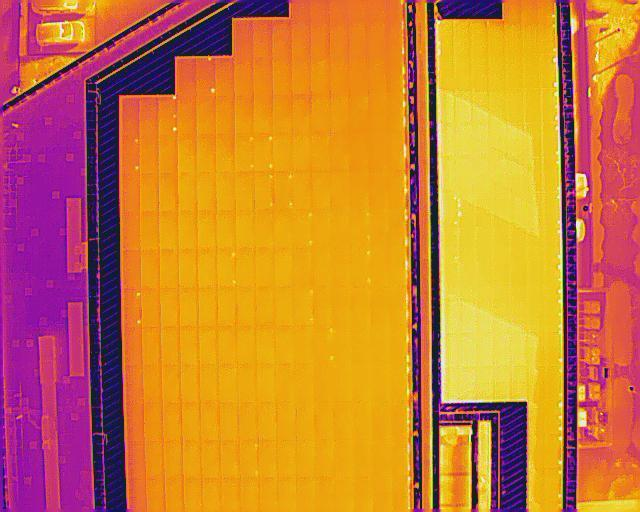Cell-Multi: (239, 439, 260, 480), (313, 325, 334, 364), (217, 249, 237, 289), (293, 211, 314, 249), (293, 287, 314, 325), (197, 57, 217, 96), (274, 171, 294, 210), (255, 171, 274, 211), (353, 249, 372, 289), (255, 134, 274, 173), (158, 97, 177, 136), (235, 134, 254, 172), (123, 290, 142, 328), (122, 135, 140, 174)
No-Anomaly: (314, 247, 335, 288), (201, 439, 222, 480), (333, 324, 354, 364), (349, 171, 369, 212), (293, 170, 313, 211), (163, 403, 183, 444), (348, 93, 369, 132), (235, 172, 256, 211), (144, 442, 165, 481), (293, 249, 314, 288), (315, 401, 336, 440), (365, 57, 387, 94), (177, 58, 197, 98), (273, 95, 293, 135), (158, 172, 178, 212), (179, 249, 199, 289), (277, 401, 297, 441), (219, 402, 239, 442), (238, 286, 258, 326), (182, 441, 202, 481), (234, 57, 255, 95), (349, 133, 370, 171), (257, 402, 278, 440), (365, 19, 386, 57), (346, 57, 368, 93), (273, 56, 293, 95), (217, 210, 237, 249), (236, 210, 256, 249), (177, 133, 197, 172), (372, 364, 392, 403), (215, 96, 235, 135), (178, 211, 198, 250), (219, 364, 239, 403), (162, 365, 182, 404), (235, 95, 255, 134), (256, 287, 276, 326), (278, 440, 298, 479), (236, 249, 256, 288), (143, 403, 163, 442), (316, 439, 336, 478), (259, 440, 279, 479), (335, 439, 355, 478), (218, 326, 238, 365), (311, 55, 331, 94), (160, 288, 180, 327), (313, 170, 332, 211), (197, 133, 216, 174), (275, 325, 294, 366), (314, 364, 335, 401), (314, 288, 335, 325), (312, 94, 331, 134), (139, 135, 159, 173), (254, 95, 273, 135), (276, 364, 296, 402), (330, 172, 350, 210), (158, 135, 178, 173), (196, 96, 216, 134), (334, 365, 354, 403), (197, 173, 217, 211), (257, 326, 276, 366), (335, 402, 355, 440), (352, 324, 371, 364), (160, 327, 180, 365), (220, 440, 240, 478), (296, 401, 315, 441), (239, 402, 258, 442), (354, 440, 374, 478), (200, 403, 220, 441), (179, 289, 199, 327), (141, 249, 160, 289), (333, 248, 352, 288), (254, 56, 273, 95), (274, 210, 293, 249), (255, 210, 274, 249), (178, 172, 197, 211), (292, 56, 311, 95), (200, 364, 219, 403), (294, 325, 313, 364), (238, 326, 257, 365), (374, 440, 393, 479), (181, 402, 200, 441), (160, 250, 179, 289), (199, 326, 218, 365), (218, 288, 237, 327), (257, 365, 277, 402), (143, 366, 163, 403), (329, 56, 349, 93), (273, 20, 293, 57), (371, 323, 389, 364), (141, 211, 160, 249), (330, 133, 349, 171), (177, 96, 196, 134), (216, 134, 235, 172), (274, 134, 293, 172), (140, 173, 159, 211), (181, 365, 200, 403), (239, 365, 258, 403), (139, 98, 158, 136), (124, 366, 143, 404), (142, 289, 161, 327), (124, 328, 143, 366), (374, 402, 393, 440), (163, 443, 182, 481), (297, 439, 316, 477), (181, 327, 200, 365), (126, 442, 145, 480), (160, 212, 179, 250), (142, 328, 161, 366), (199, 289, 218, 327), (293, 94, 311, 134), (199, 249, 217, 289), (235, 20, 255, 56), (388, 248, 406, 288), (312, 132, 331, 169), (313, 211, 332, 248), (354, 403, 373, 440), (295, 364, 314, 401), (256, 250, 275, 287), (368, 93, 386, 132), (354, 365, 372, 404), (386, 173, 404, 212), (275, 287, 293, 326), (122, 212, 140, 251), (371, 249, 389, 288), (388, 325, 406, 364), (126, 404, 144, 443), (239, 479, 260, 512), (199, 211, 217, 249), (385, 95, 403, 133), (368, 133, 386, 171), (335, 289, 354, 325), (275, 250, 293, 288), (292, 20, 311, 56), (311, 19, 330, 55), (384, 20, 403, 56), (350, 214, 370, 248), (369, 172, 386, 212), (124, 249, 141, 289), (297, 478, 317, 512), (293, 135, 311, 172), (217, 173, 235, 210), (330, 19, 348, 56), (383, 58, 402, 93), (371, 289, 390, 324), (216, 57, 233, 96), (331, 93, 348, 132), (123, 174, 140, 213), (349, 18, 366, 57), (259, 479, 279, 512), (254, 21, 272, 57), (386, 133, 403, 171), (122, 98, 139, 136), (353, 290, 372, 324), (336, 478, 355, 512), (374, 479, 393, 512), (278, 479, 297, 512), (183, 479, 202, 512), (333, 211, 350, 247), (370, 213, 388, 247), (387, 214, 405, 248), (355, 478, 373, 512), (317, 478, 335, 512), (392, 440, 408, 478), (202, 480, 221, 512), (146, 480, 165, 512), (221, 479, 239, 512), (392, 363, 407, 402), (165, 480, 183, 512), (128, 480, 146, 512), (390, 288, 406, 324), (392, 479, 409, 512), (393, 404, 407, 439)
